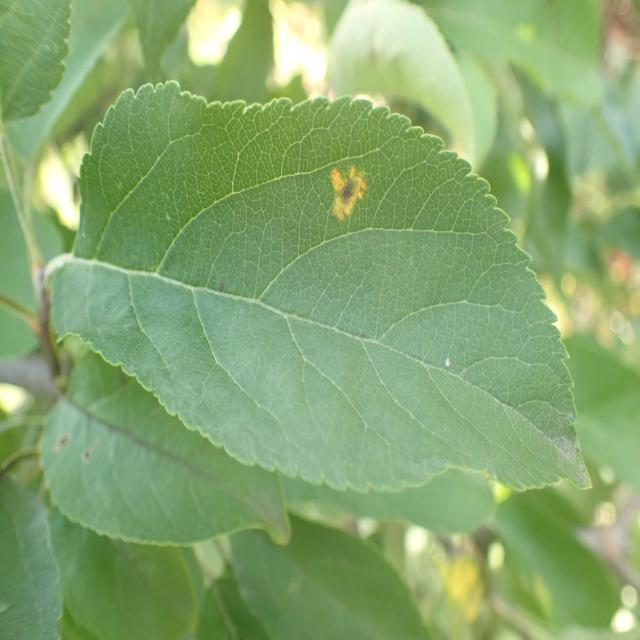Rust: (312, 148, 382, 230)
